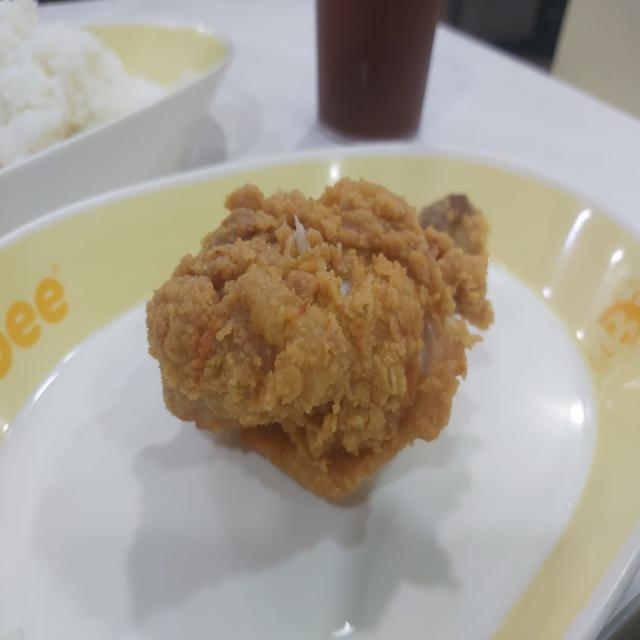Chicken -Fried Chicken-: (134, 168, 487, 523)
